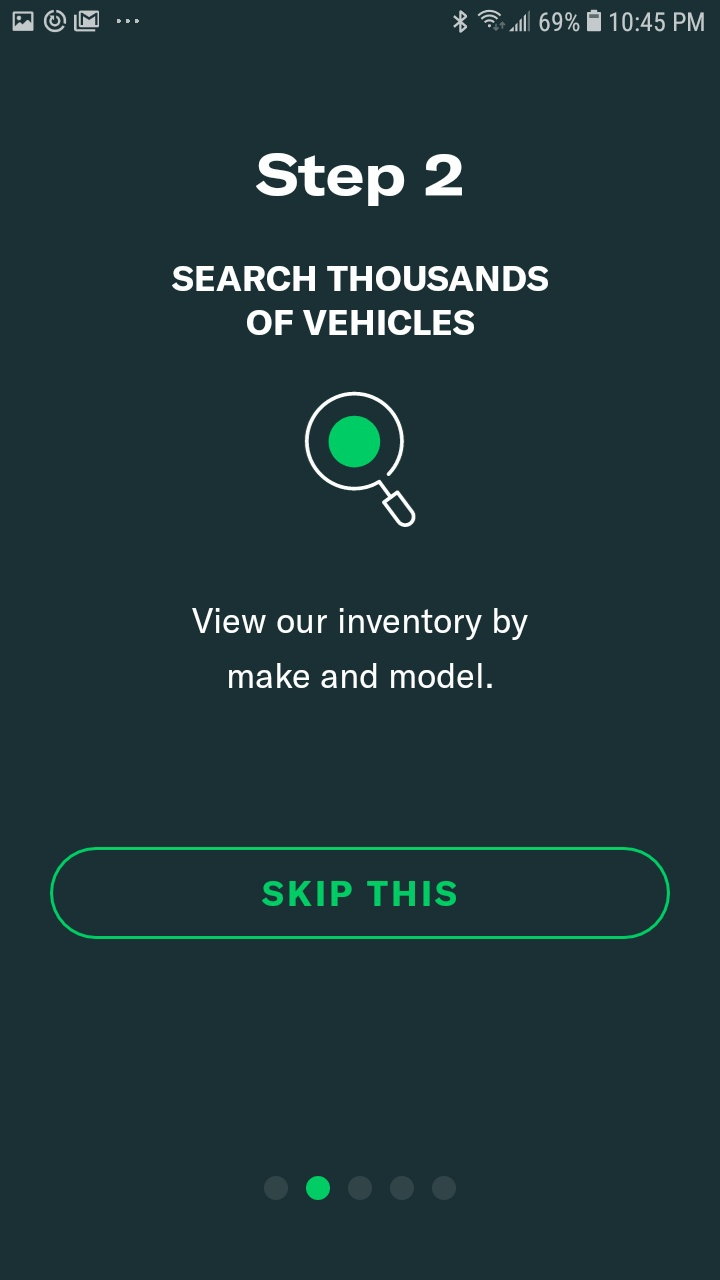Icon: (305, 391, 417, 528)
PageIndicator: (263, 1175, 457, 1201)
Text: (192, 608, 529, 689), (172, 266, 549, 337), (256, 153, 463, 208)
TextButton: (50, 846, 671, 940)
UpperTaskBar: (1, 1, 720, 43)
